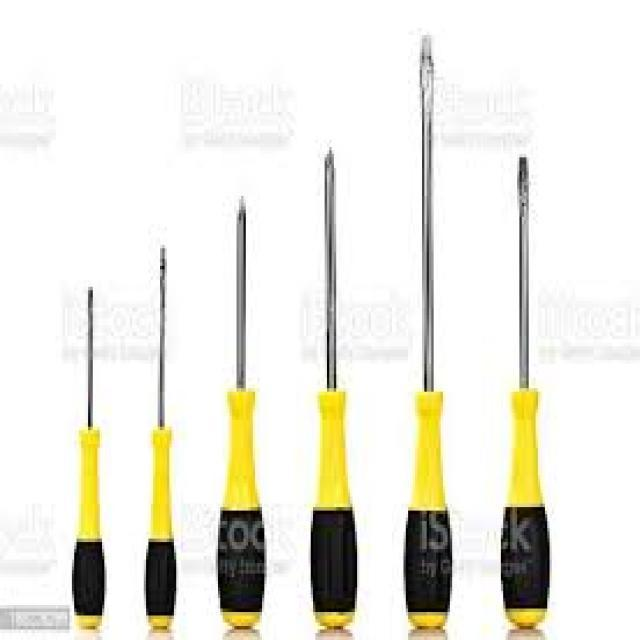screwdriver: (402, 26, 454, 631), (496, 153, 552, 630), (310, 143, 360, 630), (214, 190, 268, 632), (141, 245, 181, 633), (68, 282, 108, 632)
